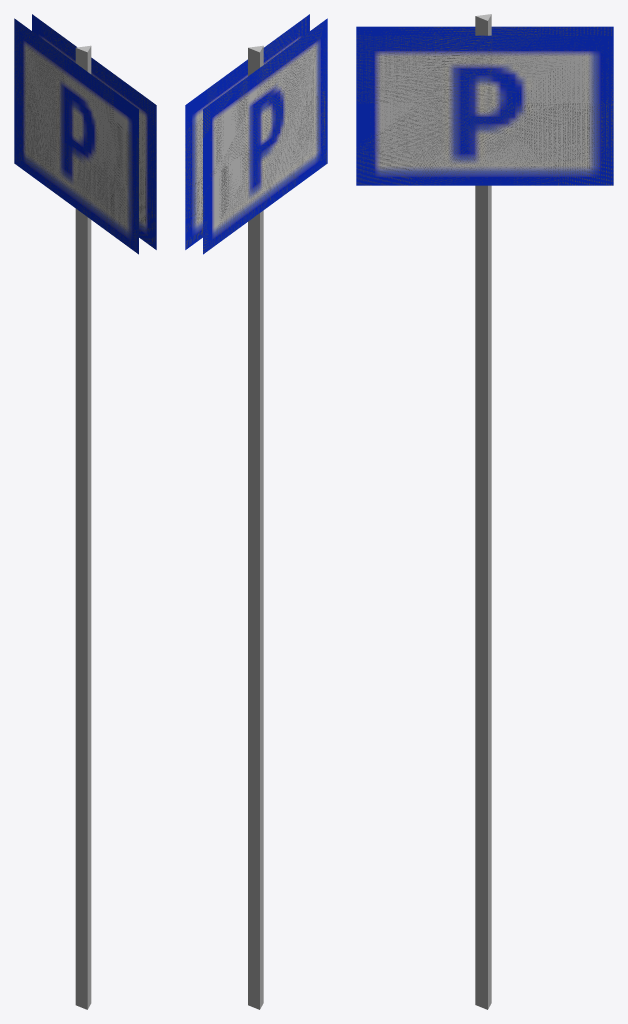
Rendered from Prop_Sign_C.fbx.
The picture shows the model from 3 angles, left to right: view 1: azimuth 30°, elevation 25°; view 2: azimuth 150°, elevation 25°; view 3: azimuth 270°, elevation 25°; orthographic projection. The views are drawn at different scales.
Parts seen in each view (by area): view 1: Prop_Sign_C; view 2: Prop_Sign_C; view 3: Prop_Sign_C.
Boxes of the visible parts, x1,y1,x2,y2 form: Prop_Sign_C: [14, 14, 156, 1009]; Prop_Sign_C: [185, 14, 327, 1009]; Prop_Sign_C: [356, 14, 613, 1009].
Size of the model in its own units: 6 by 311 by 73.3.
